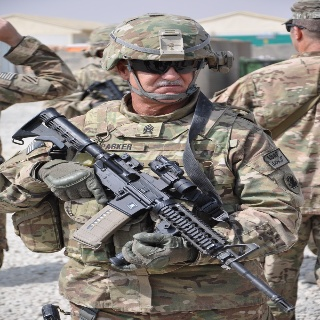rifle: (10, 106, 294, 313)
